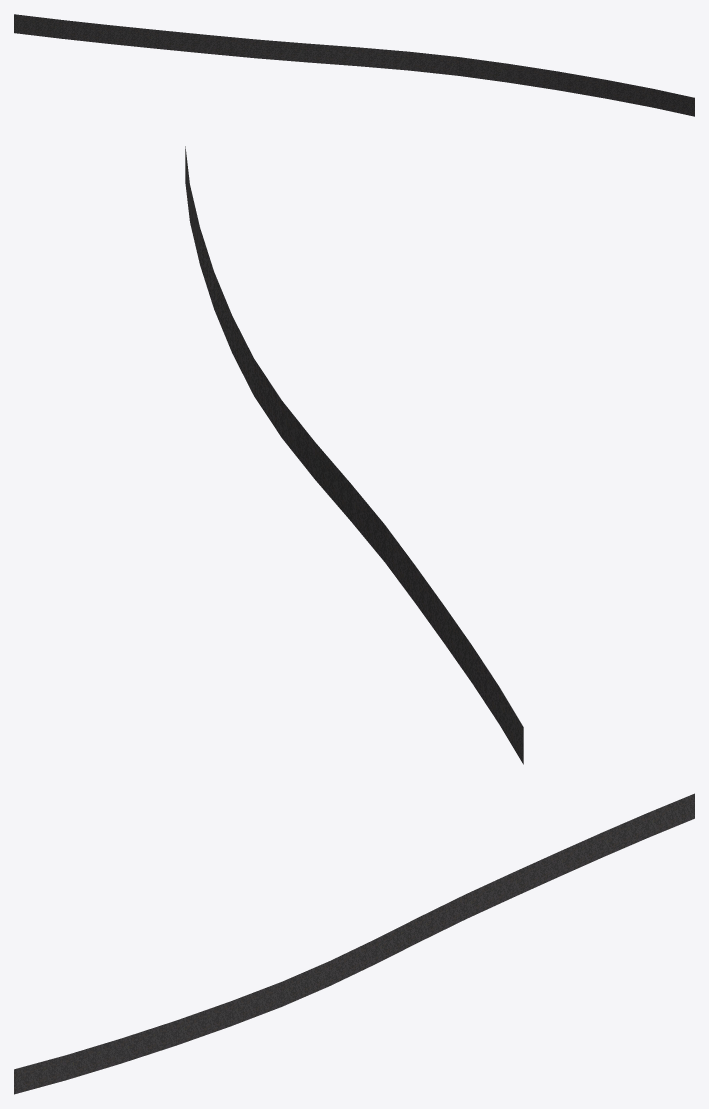
The model's file is lodyfence_sfse.obj.
The picture shows the model from 3 angles, top to bottom: view 1: azimuth 30°, elevation 25°; view 2: azimuth 150°, elevation 25°; view 3: azimuth 270°, elevation 25°; orthographic projection. The views are drawn at different scales.
Parts seen in each view (by area): view 1: LODyfence_SFSe; view 2: LODyfence_SFSe; view 3: LODyfence_SFSe.
Boxes of the visible parts, x1,y1,x2,y2 form: LODyfence_SFSe: (14,14,694,116); LODyfence_SFSe: (185,146,523,764); LODyfence_SFSe: (14,793,694,1094).
Bounding box in the file's own units: 118 × 5 × 123.
1 material, 1 textured.
